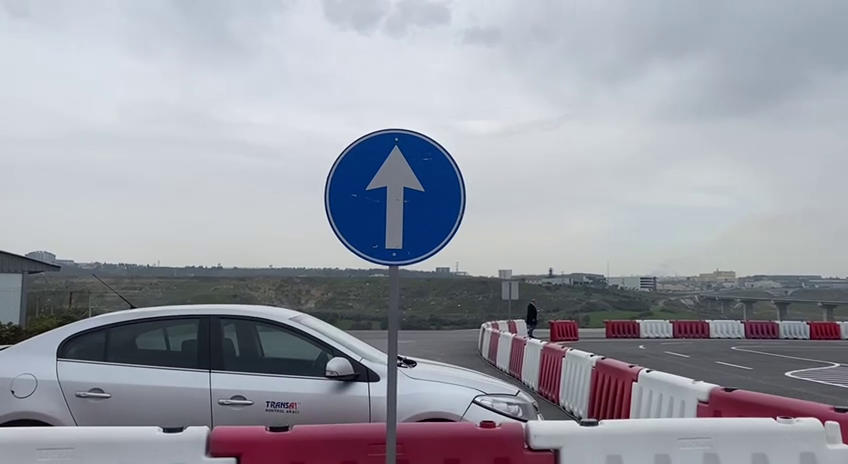forward: (320, 123, 470, 270)
